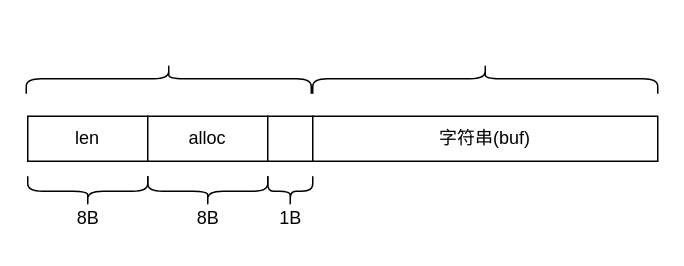
Image size: 684x266. Some labels were removed from this diagram. The box of each missing label's shape, as (x1, y1, x2, y2) in pixels:
flags: (266, 115, 313, 161)
sdshdr64 header: (25, 62, 311, 94)
字符串: (311, 62, 658, 94)
